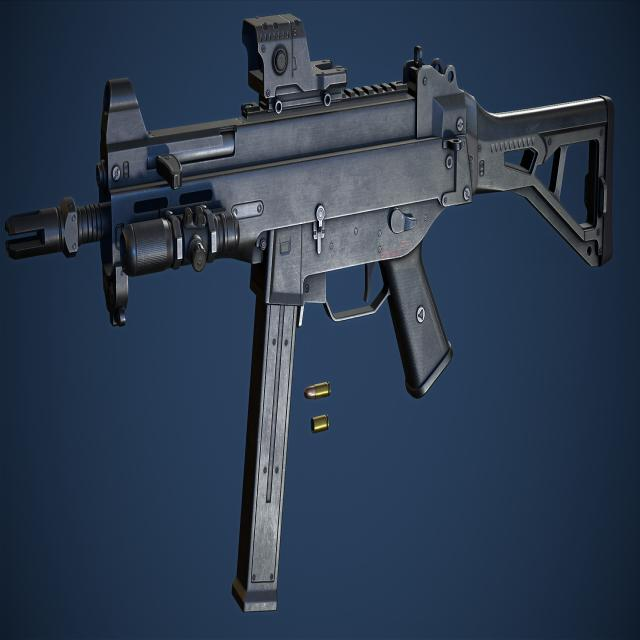SMG: (5, 14, 616, 615)
